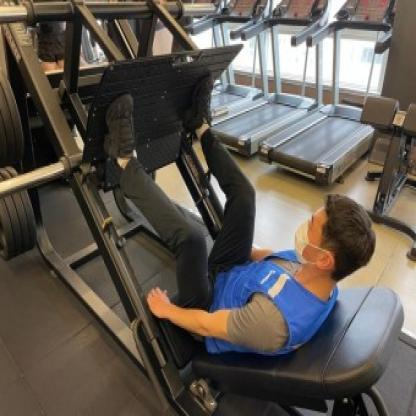leg press: (6, 0, 416, 416)
